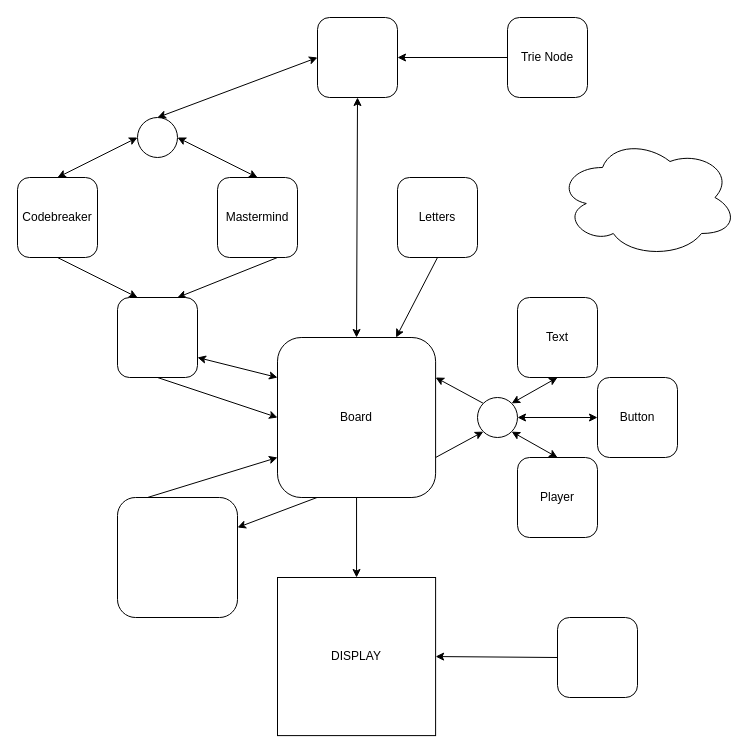
The diagram is 755 pixels wide and 754 high, and some of its shapes have lost their labels. Each missing label, with the box of its shape:
AI: (116, 296, 198, 378)
Constants: (556, 136, 738, 258)
Cursor: (556, 616, 638, 698)
Game State: (116, 496, 238, 618)
Trie: (316, 16, 398, 98)
